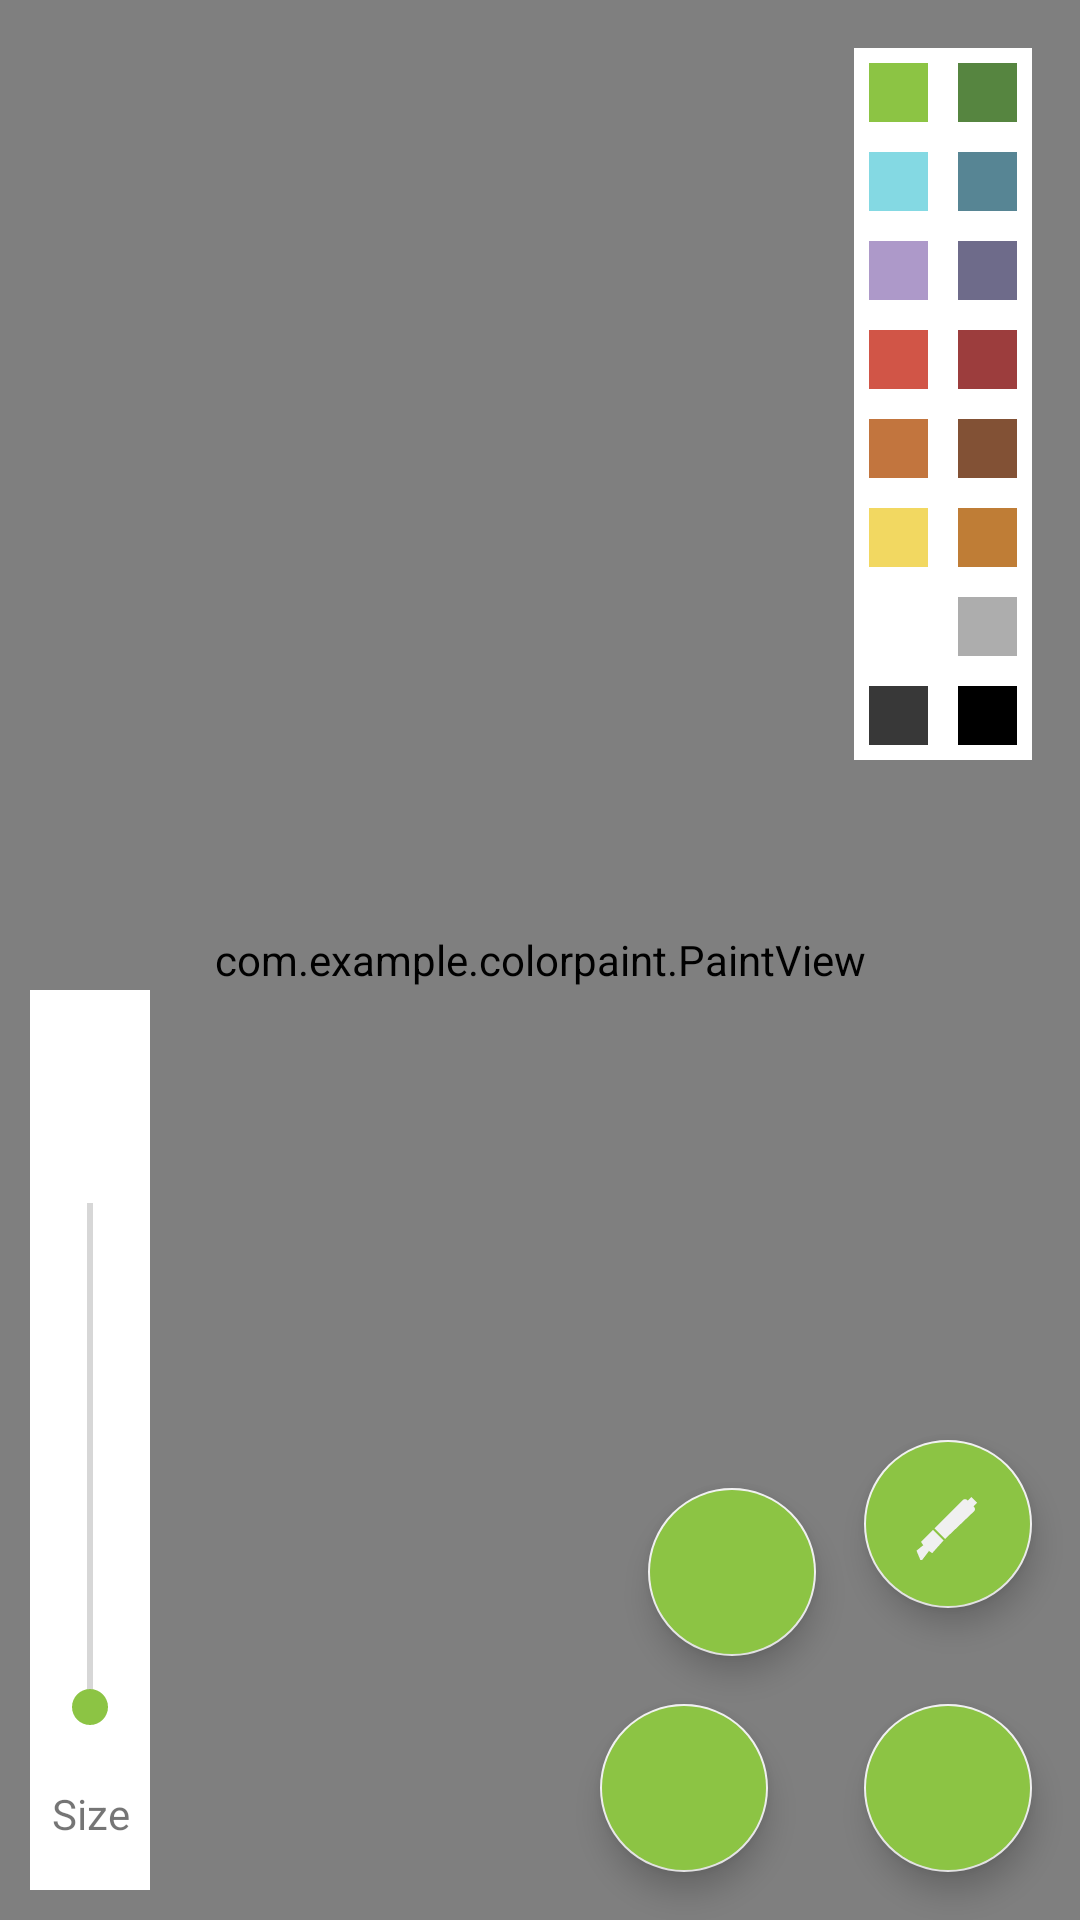

Icons on this 1080w x 1920h Android screen, each with the point to tap as (x,y):
marker: (948,1524)
